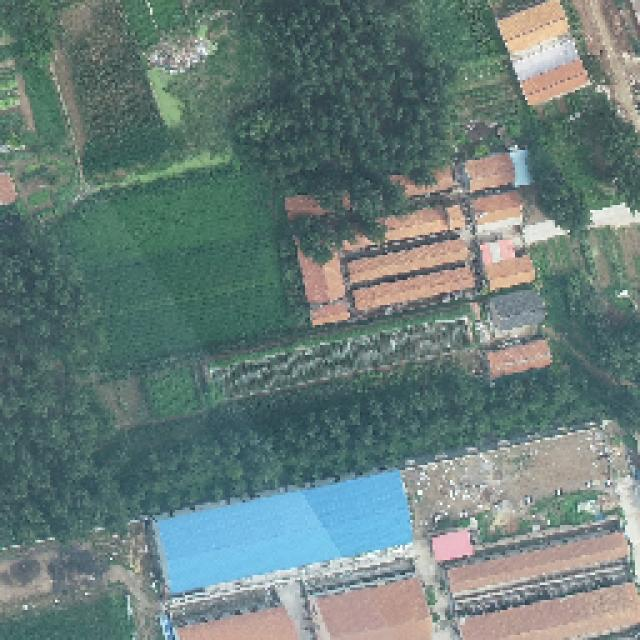Batiment: (161, 467, 415, 592), (448, 534, 635, 640), (311, 578, 431, 640), (353, 266, 475, 311), (350, 239, 469, 283), (176, 608, 299, 640), (498, 0, 568, 53), (520, 60, 589, 104), (382, 207, 461, 242), (480, 239, 535, 289), (298, 249, 345, 303), (488, 341, 548, 378), (465, 154, 514, 192), (474, 193, 521, 224), (431, 530, 474, 562), (312, 304, 348, 326), (0, 172, 18, 204), (343, 235, 374, 251)
